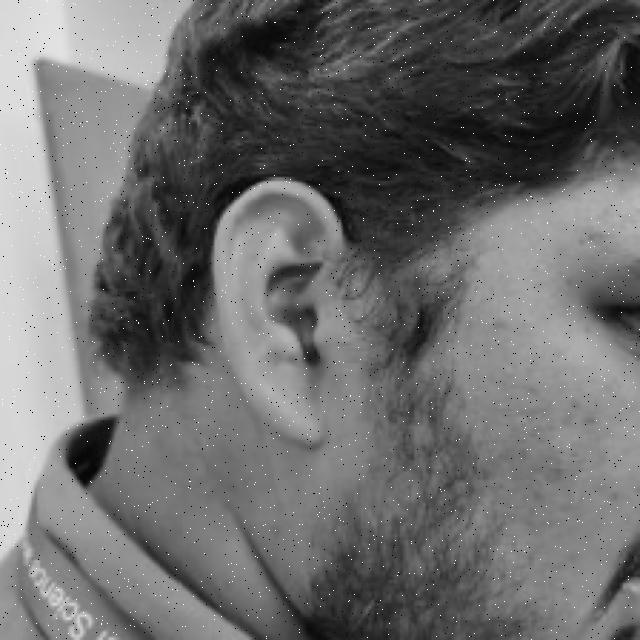ear: (211, 177, 340, 440)
